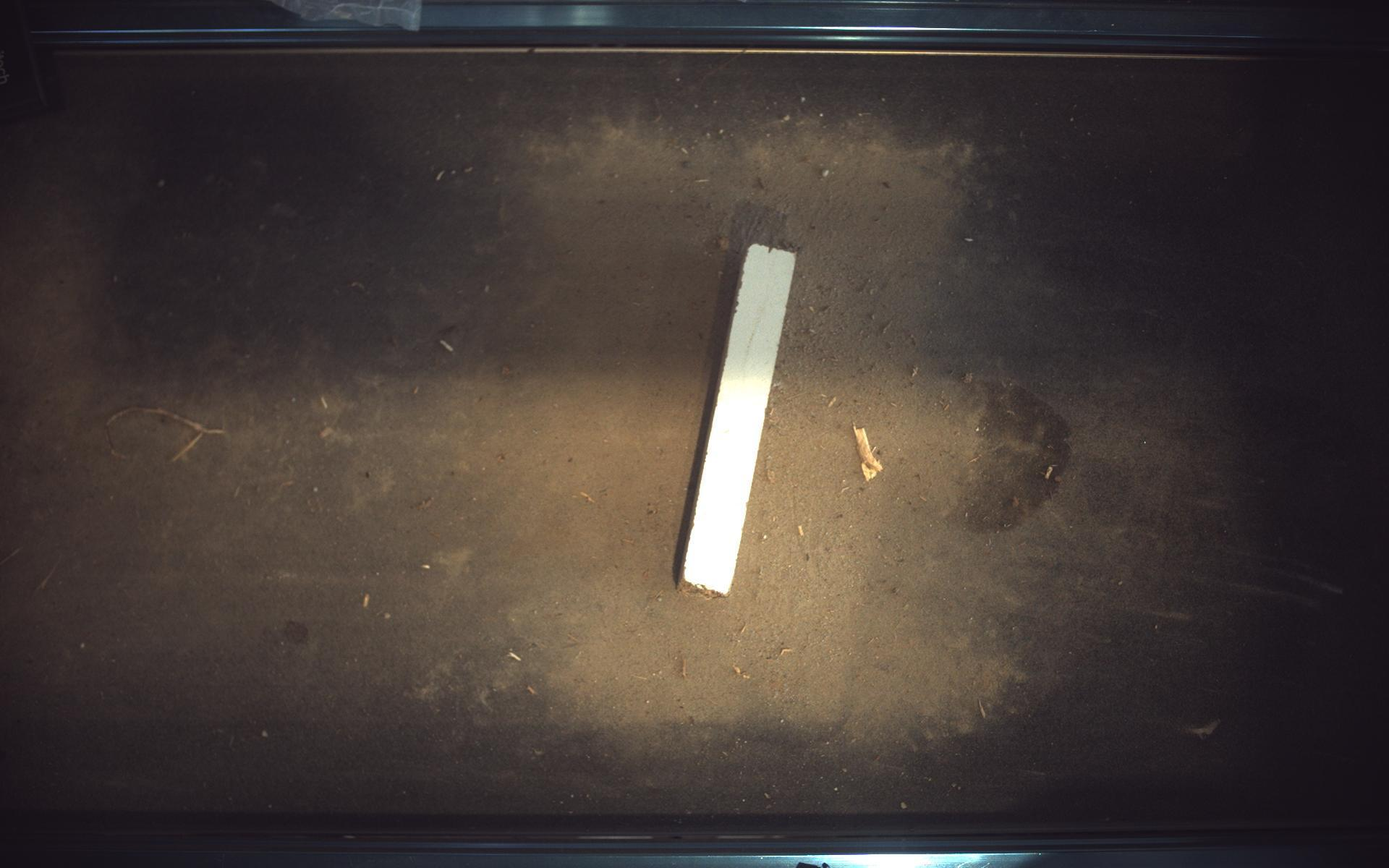wood: (683, 243, 797, 595)
